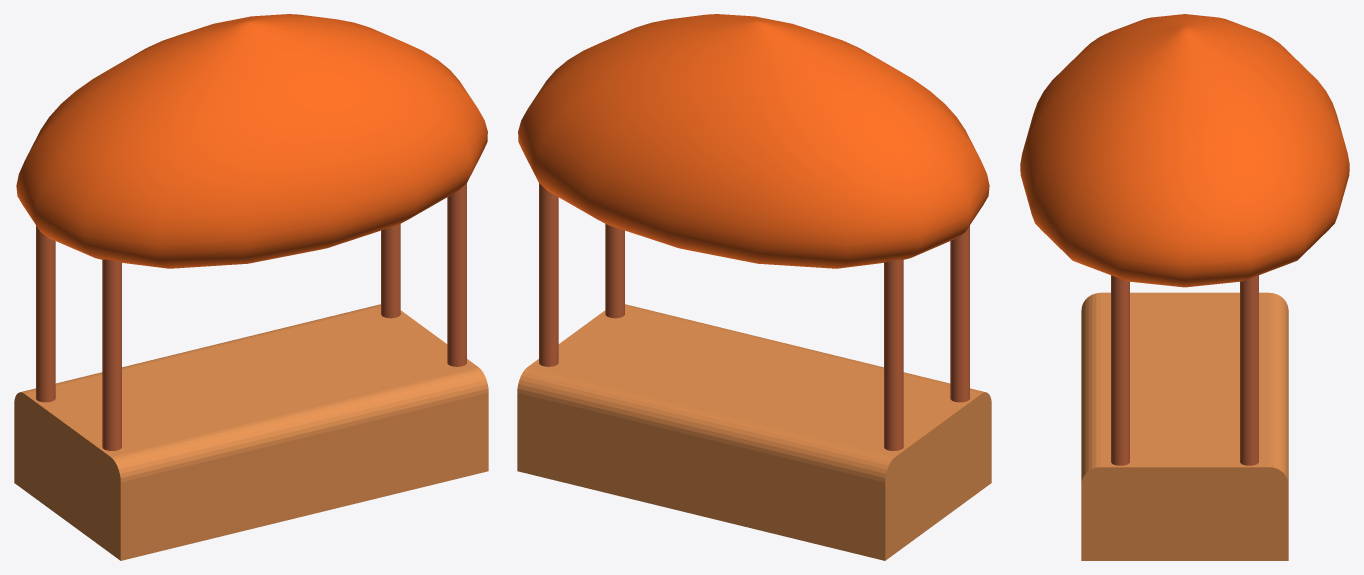
File: wydawka.gltf
3 renders of one model, left to right at view 1: azimuth 30°, elevation 25°; view 2: azimuth 150°, elevation 25°; view 3: azimuth 270°, elevation 25°, orthographic. The views are drawn at different scales.
Parts seen in each view (by area): view 1: Cube.002, Cube.001, Cylinder; view 2: Cube.002, Cube.001, Cylinder; view 3: Cube.002, Cube.001, Cylinder.
Boxes of the visible parts, box(x1,y1,x2,y2) form: Cube.002: box(16, 14, 487, 268); Cube.001: box(14, 304, 488, 560); Cylinder: box(36, 183, 466, 450); Cube.002: box(518, 14, 989, 268); Cube.001: box(517, 304, 991, 560); Cylinder: box(539, 183, 969, 450); Cube.002: box(1020, 14, 1349, 287); Cube.001: box(1081, 292, 1288, 560); Cylinder: box(1111, 275, 1258, 465).
Bounding box in the file's own units: 4.7 × 4.71 × 3.18.
Materials: 2 (2 with a texture image).
